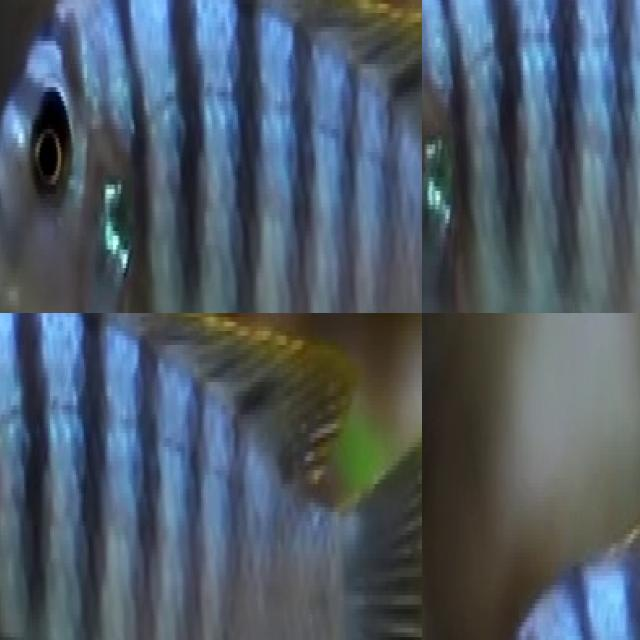fish: (0, 313, 422, 640), (0, 0, 422, 313), (422, 0, 640, 313), (422, 446, 640, 640)
